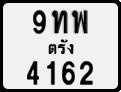letters: (71, 9, 89, 34), (51, 10, 69, 34), (31, 9, 47, 35), (79, 59, 94, 86), (25, 60, 40, 86), (61, 60, 76, 86), (46, 59, 56, 86)
province: (47, 38, 75, 56)
